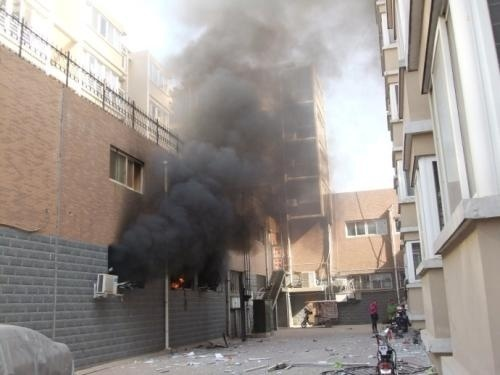fire: (169, 273, 187, 290)
